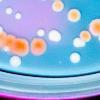orange: (30, 38, 47, 57), (14, 38, 29, 56), (6, 34, 17, 53), (90, 19, 100, 37), (0, 32, 8, 51), (81, 31, 91, 42), (68, 10, 79, 20)
white: (47, 28, 63, 45), (68, 50, 82, 64), (71, 37, 87, 49), (9, 55, 22, 69), (53, 0, 64, 12), (36, 28, 45, 39), (14, 12, 22, 22), (5, 8, 12, 16), (0, 24, 5, 34)
